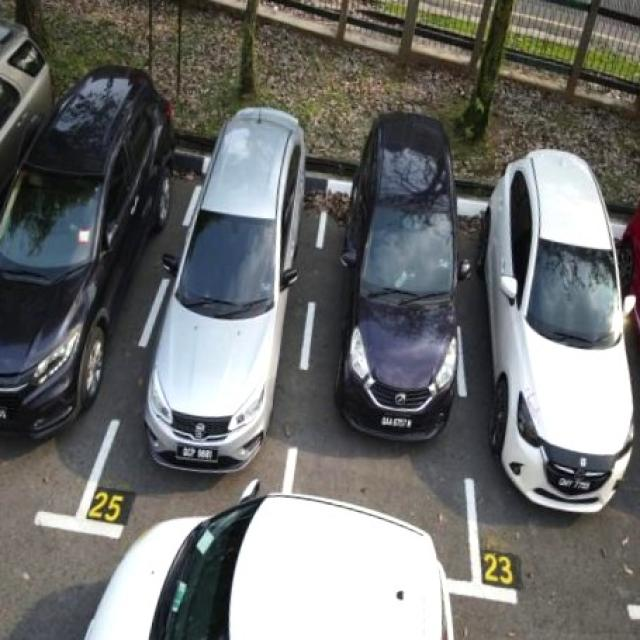Legalparking: (0, 65, 173, 437), (145, 107, 304, 471), (477, 149, 634, 512), (335, 111, 470, 439)
illegalparking: (86, 480, 452, 639)
